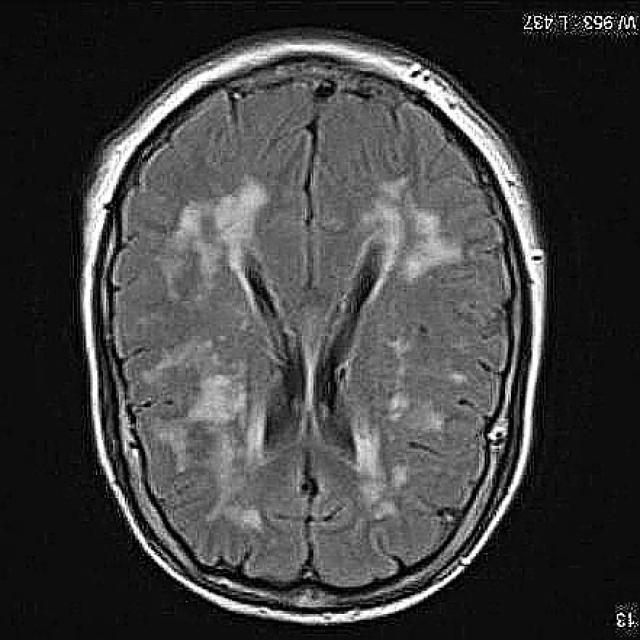notumor: (78, 30, 547, 626)
